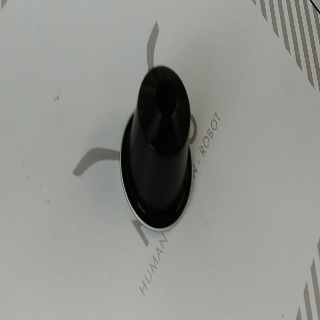capsule_10: (121, 64, 193, 232)
